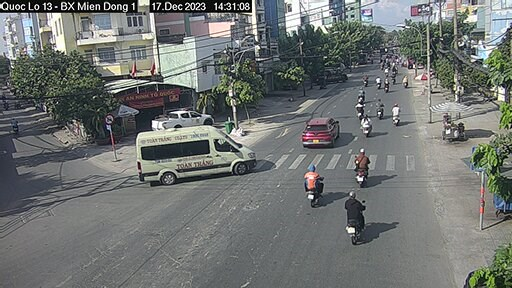car: (134, 128, 260, 181), (297, 113, 343, 150), (152, 108, 215, 130)
motorbike: (302, 163, 328, 209), (338, 195, 368, 233), (355, 154, 371, 180), (362, 119, 379, 137), (391, 104, 404, 125), (372, 98, 383, 117)
